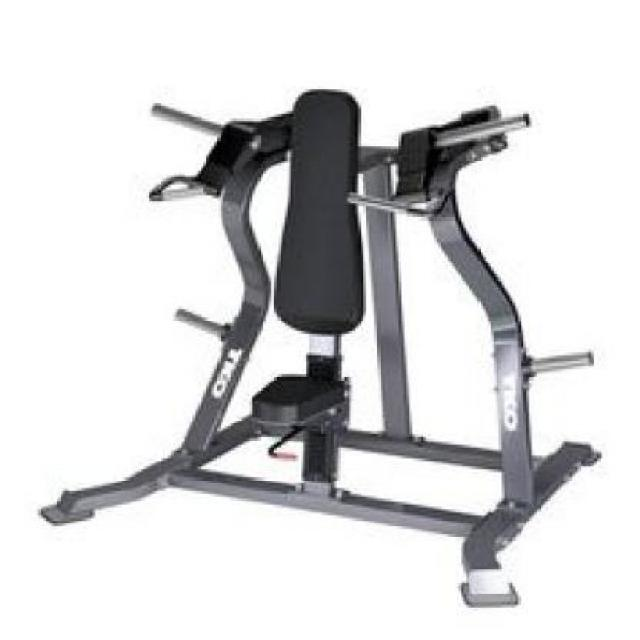shoulder press machine: (35, 71, 608, 620)
